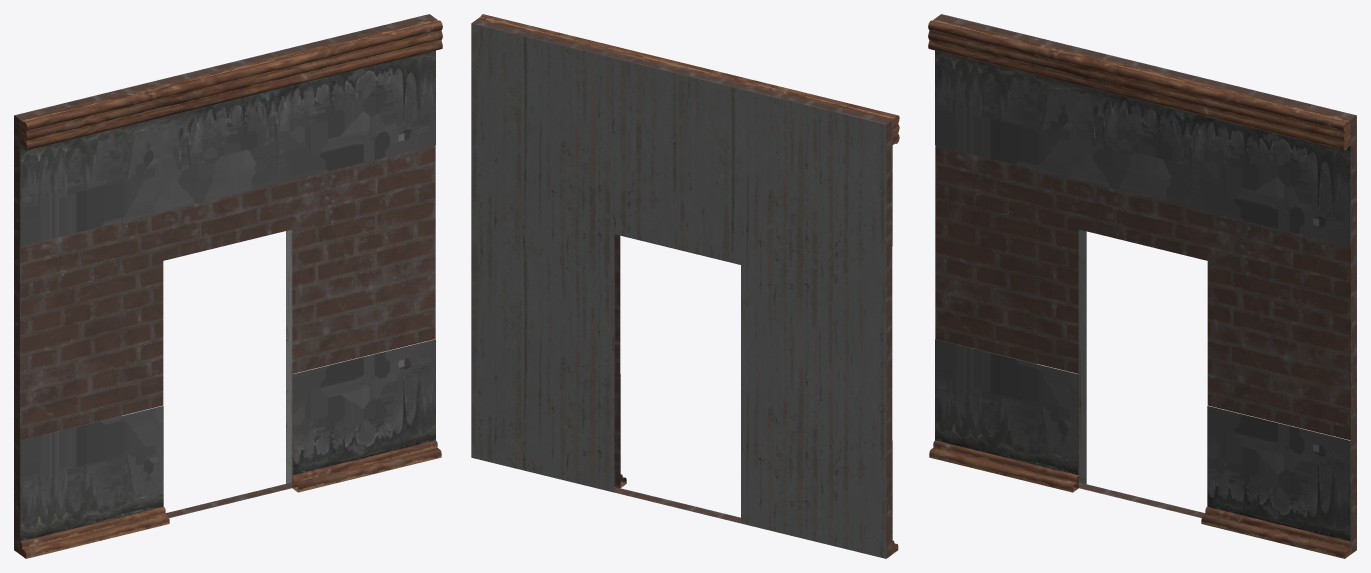
Rendered from Kit_BricksDoorMid.fbx.
3 views of the same model, side by side, from view 1: azimuth 30°, elevation 25°; view 2: azimuth 150°, elevation 25°; view 3: azimuth 330°, elevation 25° (orthographic).
Parts seen in each view (by area): view 1: Kit_BricksDoorMid; view 2: Kit_BricksDoorMid; view 3: Kit_BricksDoorMid.
Part boxes in pixels (x1=…): Kit_BricksDoorMid: x1=14, y1=14, x2=442, y2=558; Kit_BricksDoorMid: x1=471, y1=14, x2=899, y2=558; Kit_BricksDoorMid: x1=928, y1=14, x2=1356, y2=558.
Size of the model in its own units: 157 by 158 by 8.75.
